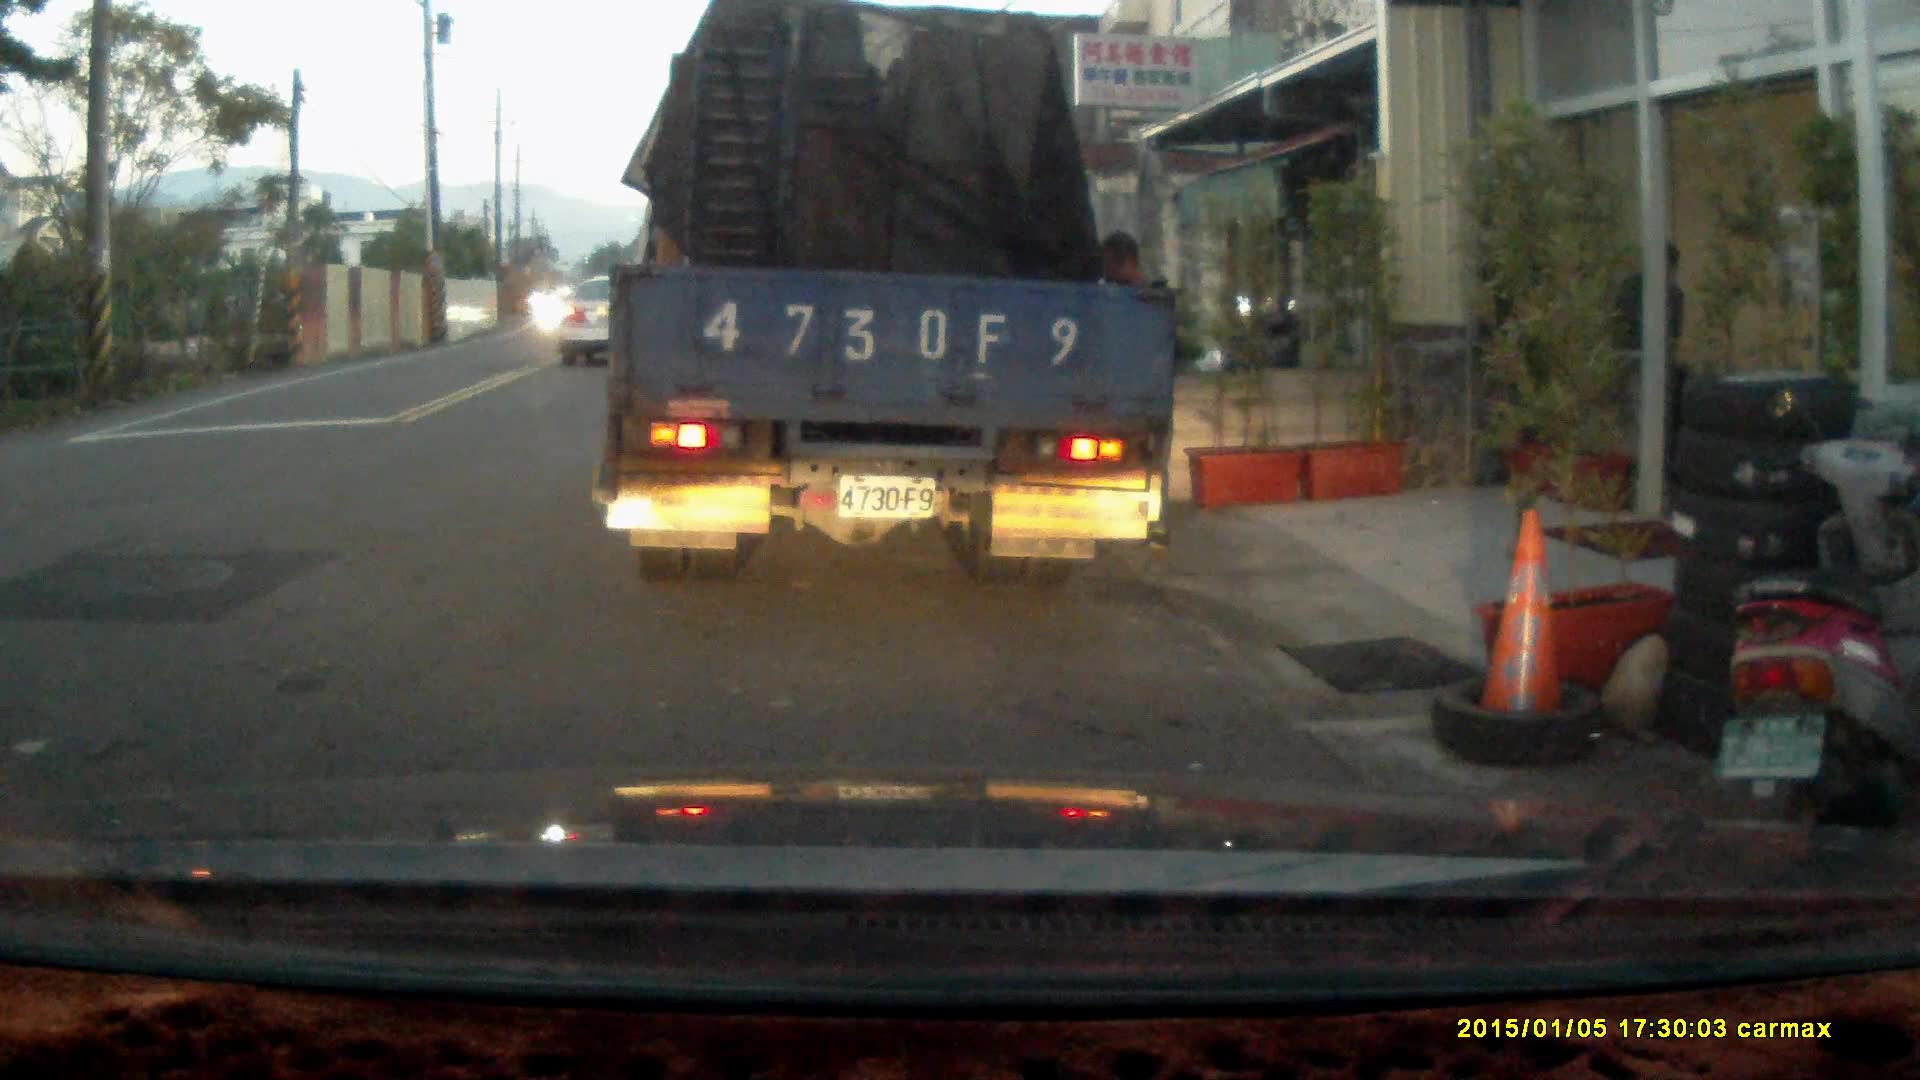pedestrian: (1085, 230, 1178, 553), (1612, 237, 1689, 478)
vehicle: (605, 23, 1188, 572), (563, 272, 647, 370)
